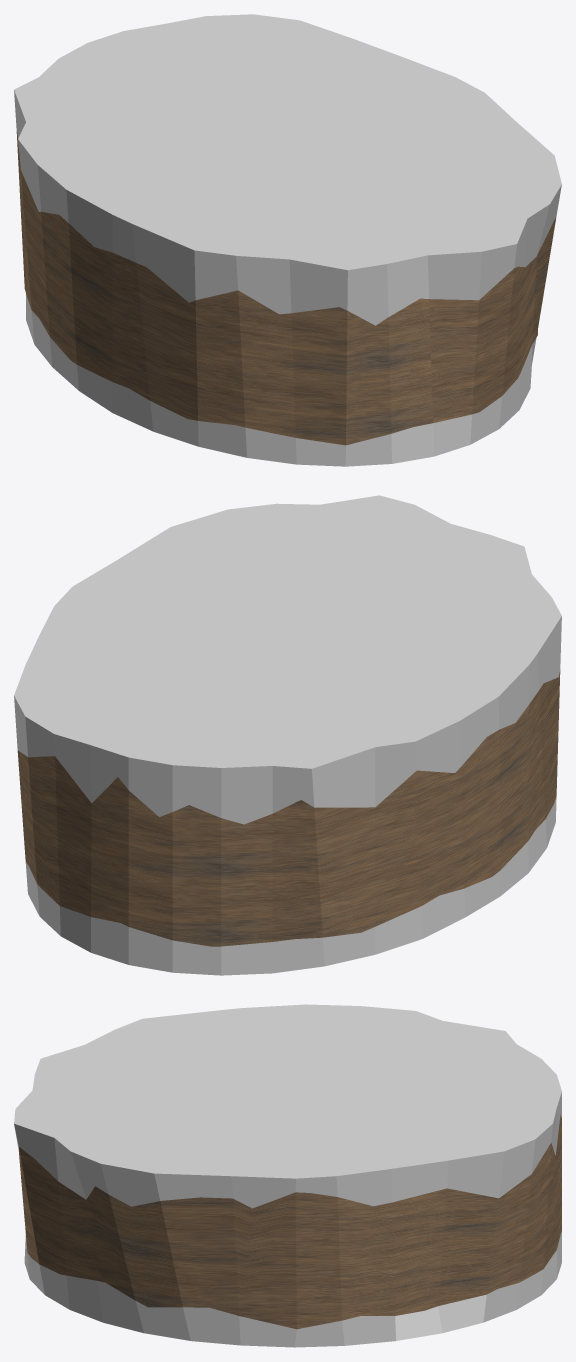
Rendered from RoundedGrassPlatform.fbx.
The picture shows the model from 3 angles, top to bottom: view 1: azimuth 30°, elevation 25°; view 2: azimuth 150°, elevation 25°; view 3: azimuth 270°, elevation 25°; orthographic projection. The views are drawn at different scales.
Parts seen in each view (by area): view 1: GrassRoundedPlatform; view 2: GrassRoundedPlatform; view 3: GrassRoundedPlatform.
Part boxes in pixels (left/top/right/bottom): GrassRoundedPlatform: left=14, top=14, right=561, bottom=466; GrassRoundedPlatform: left=14, top=495, right=561, bottom=975; GrassRoundedPlatform: left=14, top=1004, right=561, bottom=1347.
Bounding box in the file's own units: 1233 × 567 × 1637.
